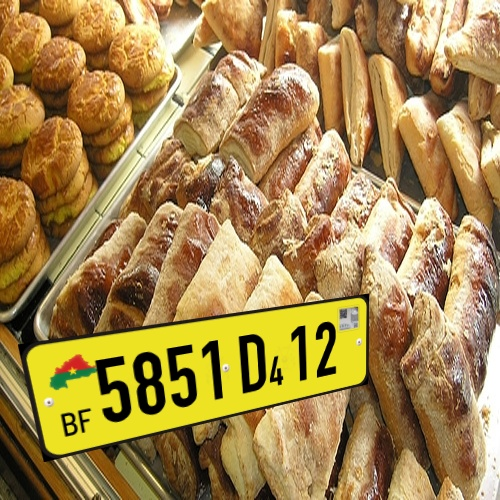plate: (11, 278, 395, 465)
